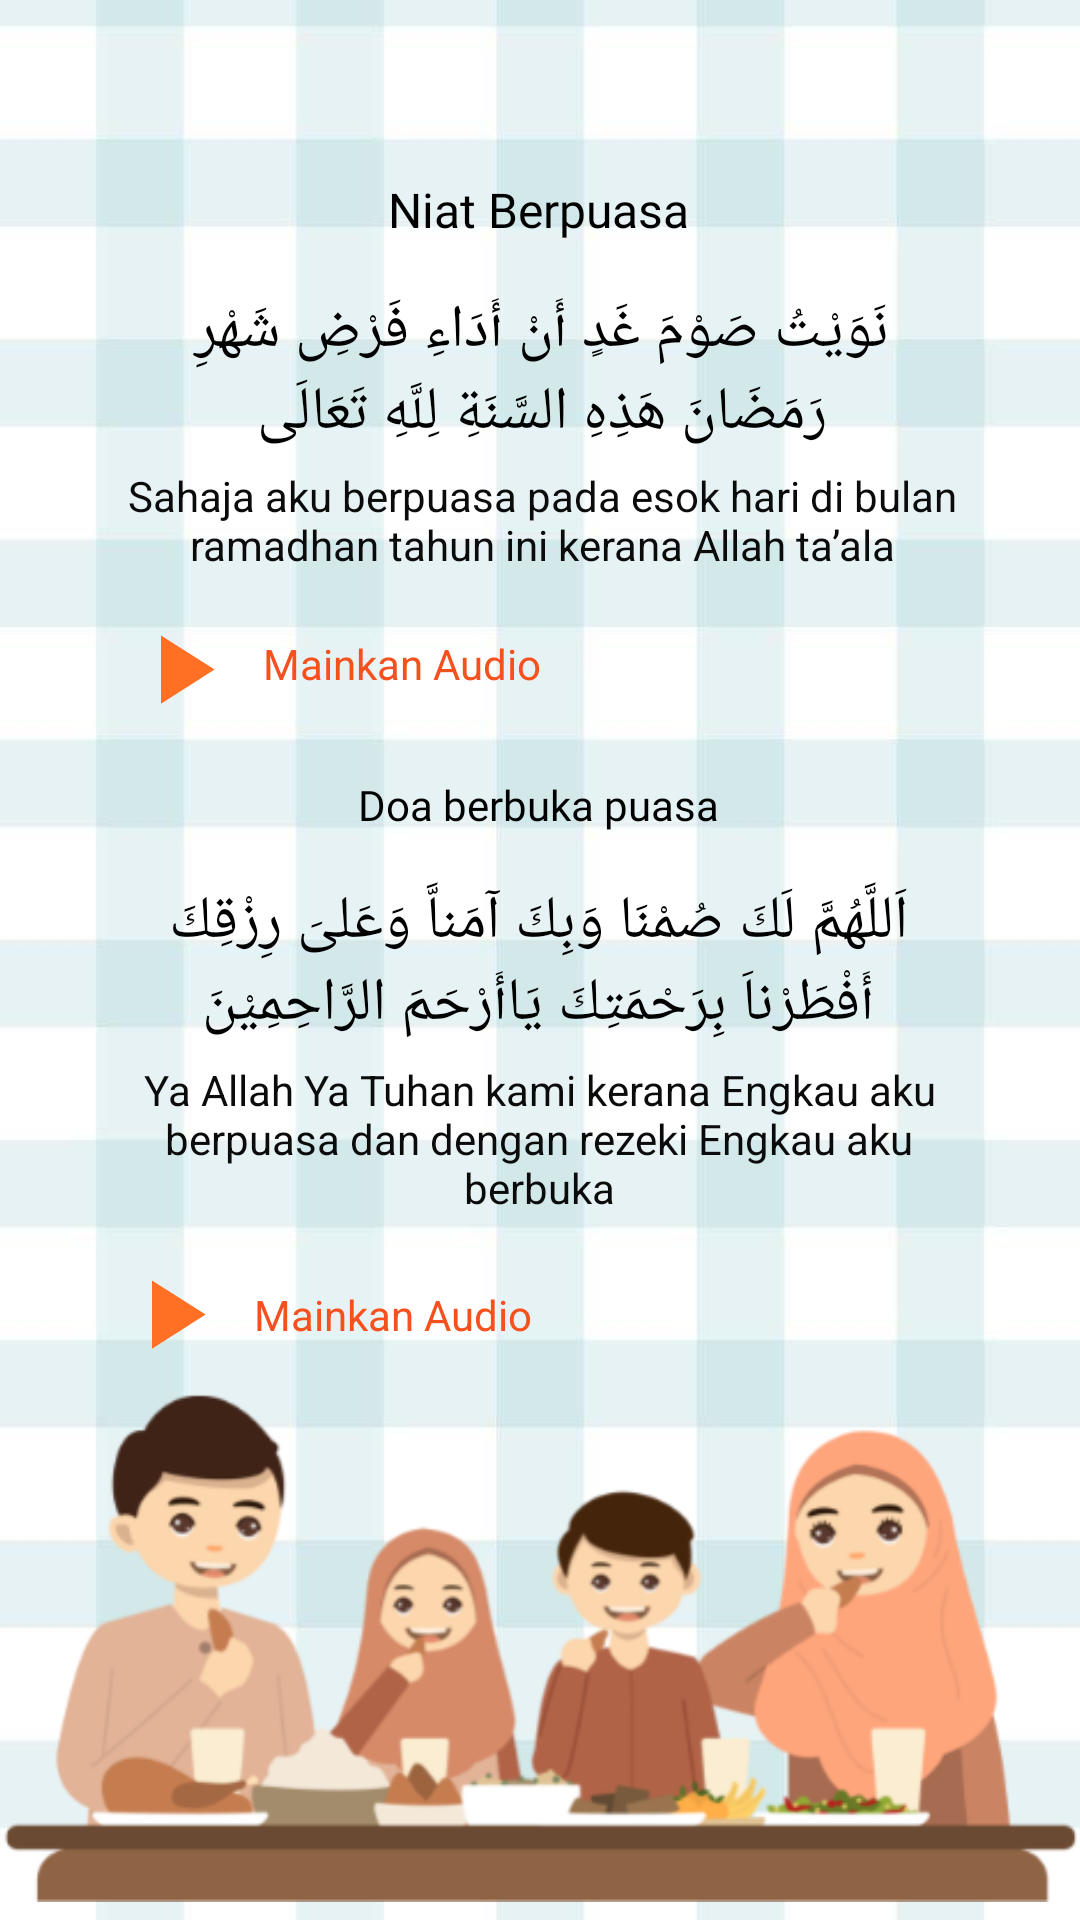

Locate icon controls on the screen. Image size 1080*1920, boxes as bbox=[x1, y1, x2, y2].
play arrow: bbox=[161, 632, 239, 728], bbox=[152, 1256, 230, 1349]
